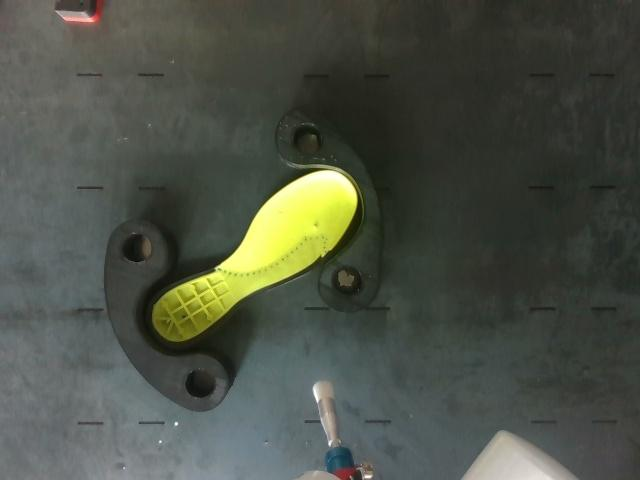shoes: (146, 171, 357, 349)
